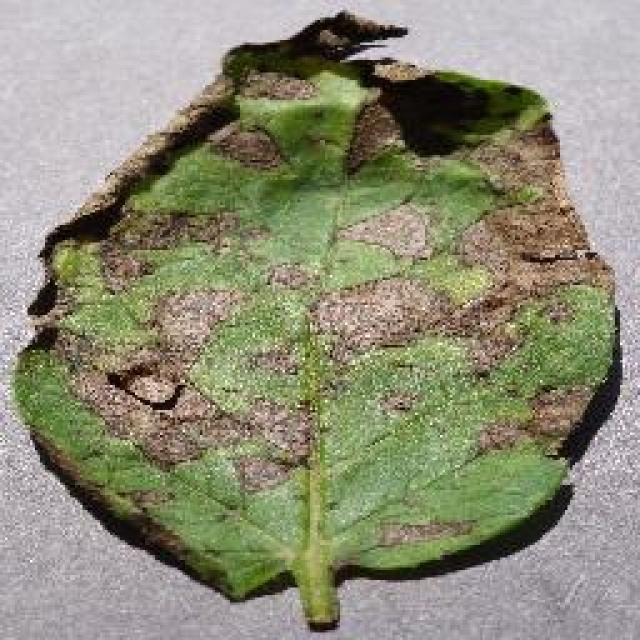Potato: (10, 8, 620, 630)
